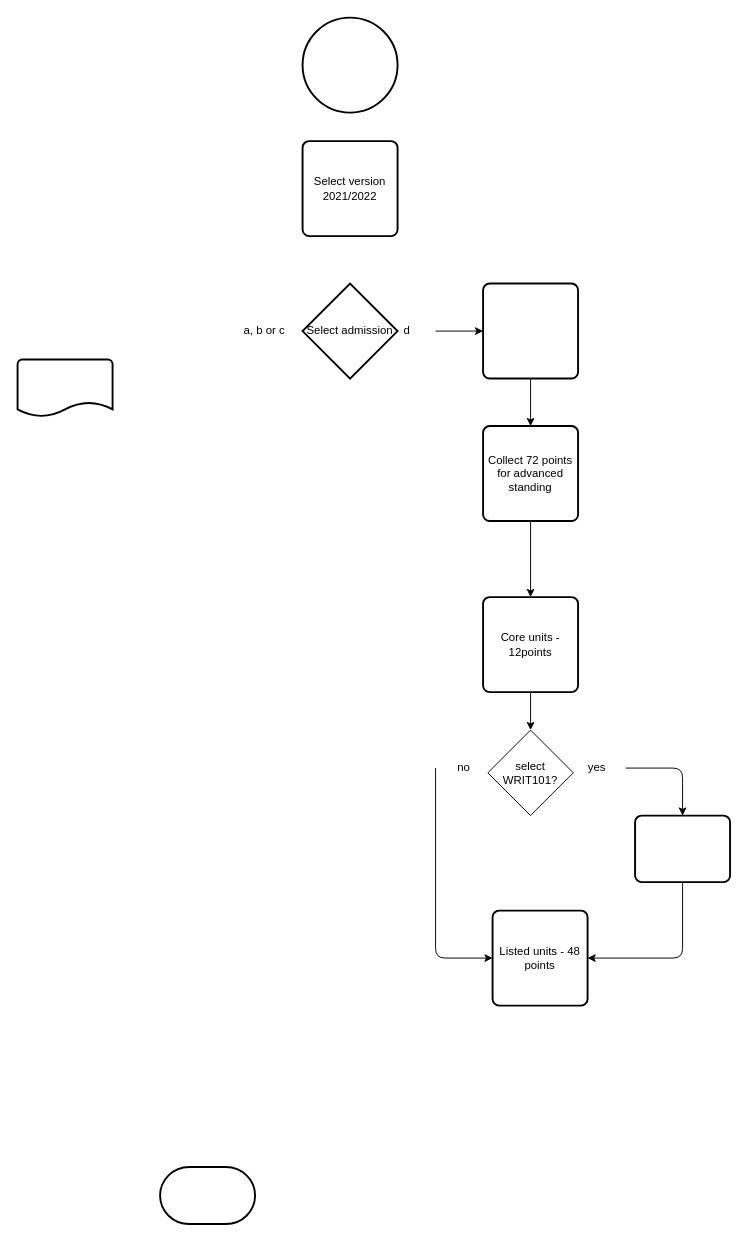
Image size: 747x1241. Some labels were removed from this diagram. The shapes that lost their labels are listed below. From the top down, each one's box as (x1, y1, x2, y2) in pixels, then its label:
(301, 16, 398, 113): Bachelor of Arts Start
(482, 282, 579, 379): BA - Stage and Screen Acting
(634, 814, 731, 883): remove WRIT101 from Listed units
